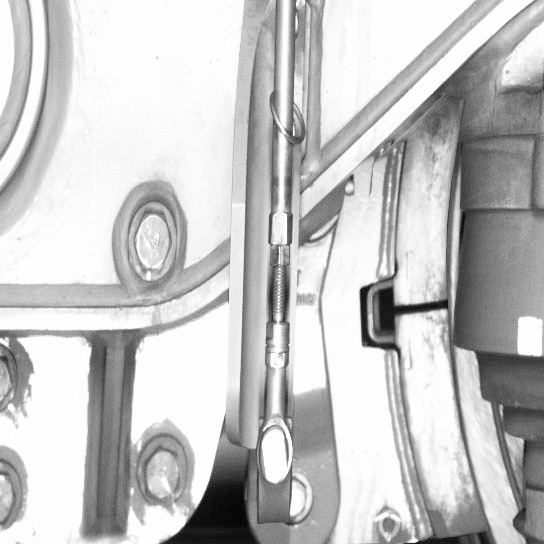ClosedKnifeSwitch: (373, 137, 498, 542)
